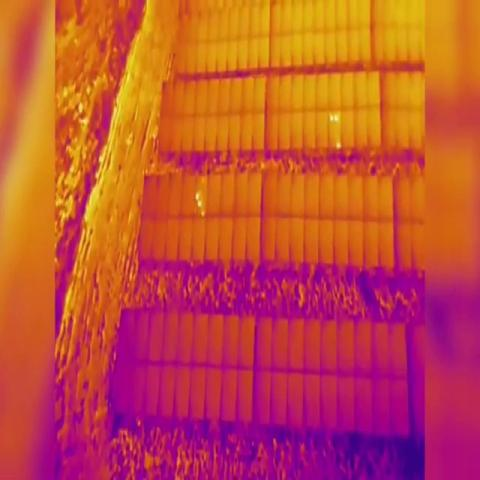fault: (334, 110, 340, 126), (335, 139, 342, 151), (194, 192, 200, 202), (200, 210, 207, 218), (330, 112, 334, 125), (197, 198, 202, 208)
